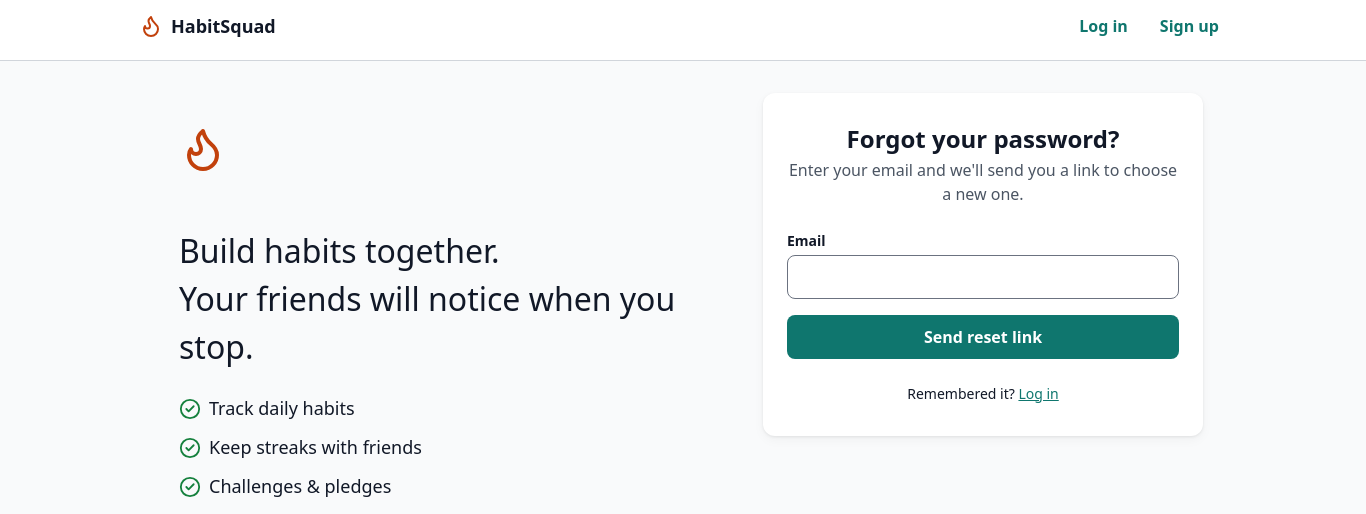
Test: ForgotPasswordPage › sends the email and shows the same message whatever the answer
Type " sam@example.com " into the field labelled "Email" at coordinates (983, 277), box [788,257,1178,297]
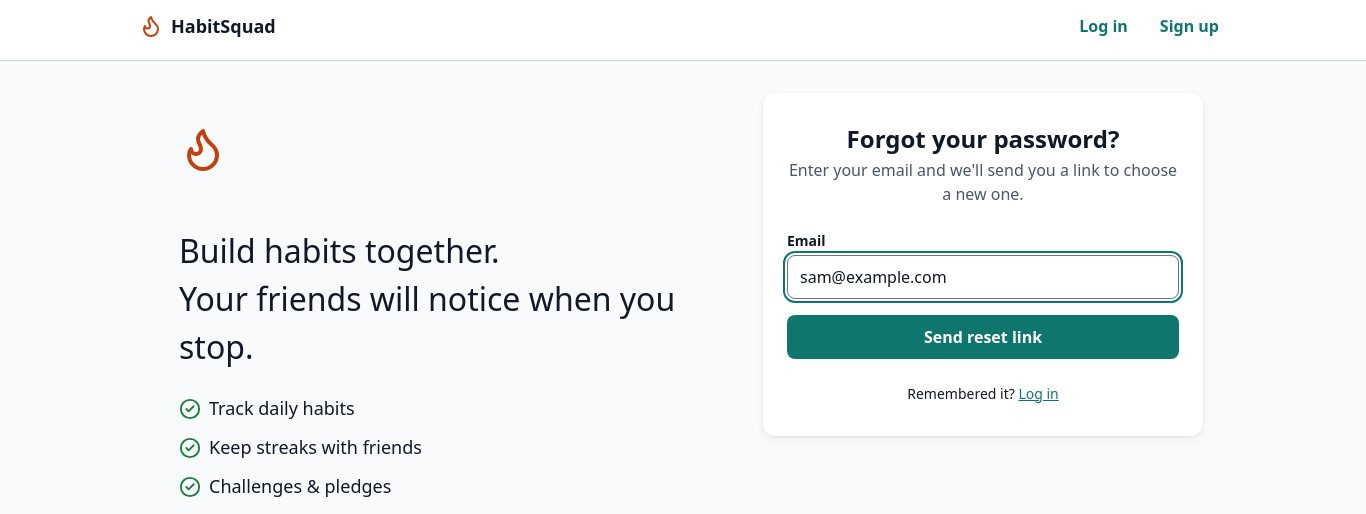
Click the button "Send reset link" at coordinates (983, 337), box [787,315,1179,359]
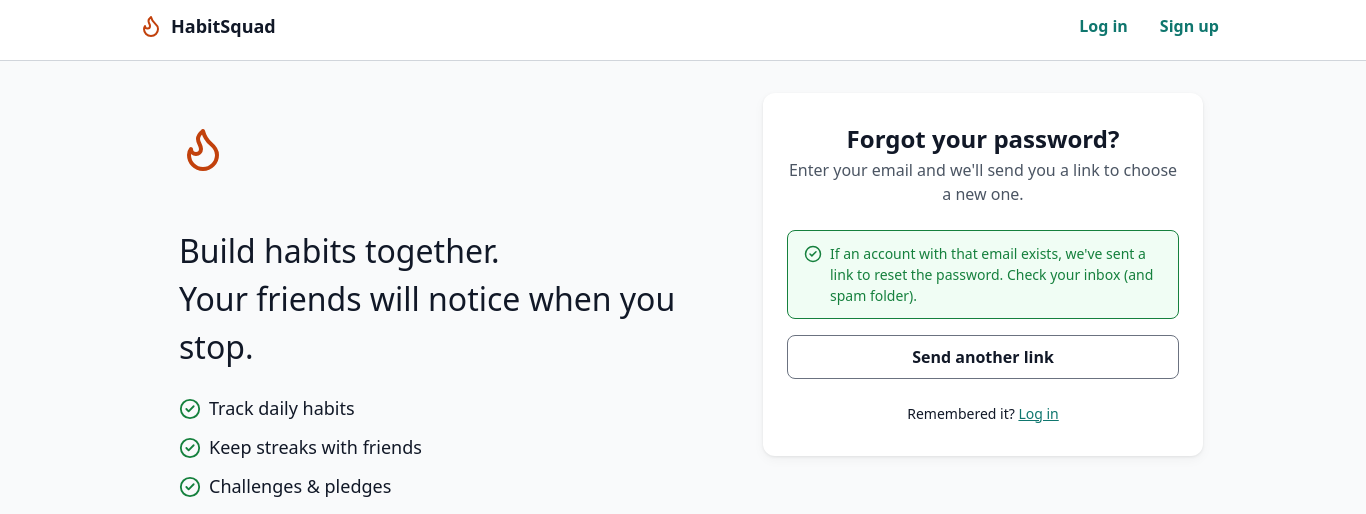
expect the message shows "If an account with that email exists, we've sent a link to reset the password. Check your inbox (and spam folder).": met, box [830,244,1153,305]
